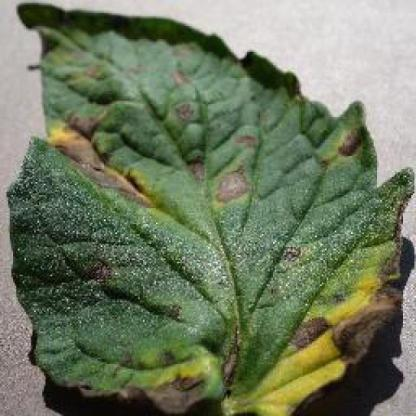Tomato_Blight: (8, 3, 413, 413)
